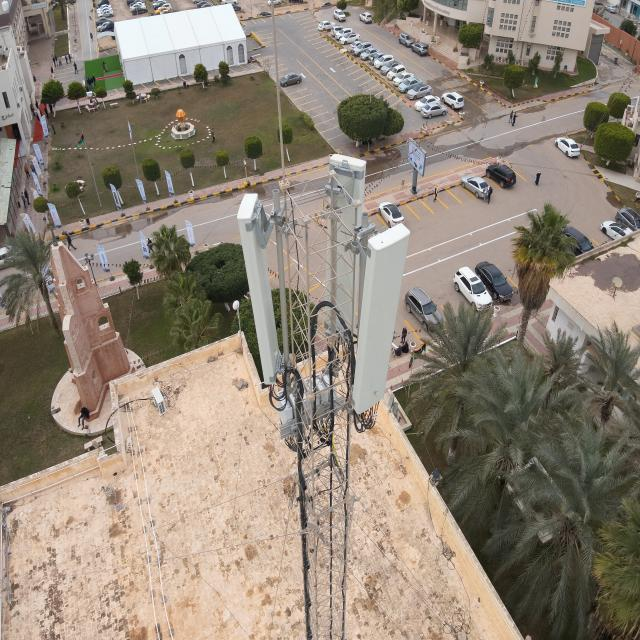antenna: (353, 213, 410, 421), (237, 188, 290, 388), (326, 147, 370, 338)
lighnig-rad: (269, 1, 289, 191)
radio-unit: (278, 367, 340, 435)
